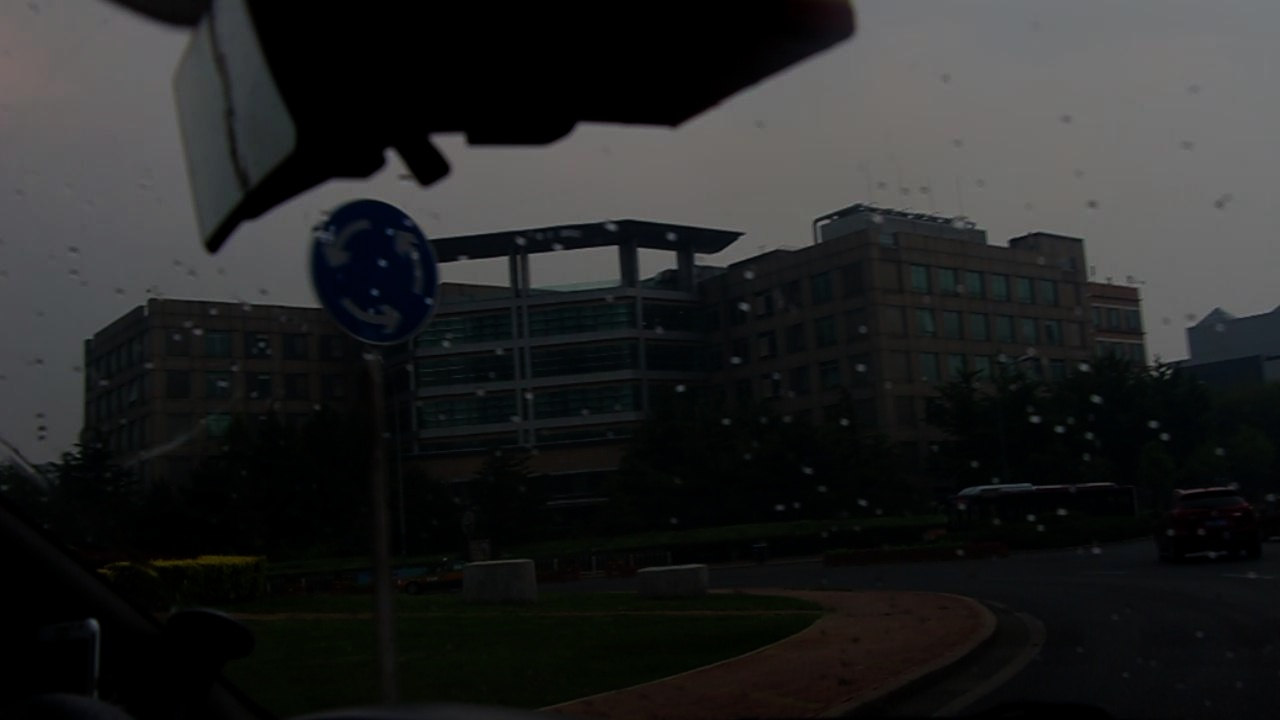Informative Signs: (308, 196, 447, 351)
